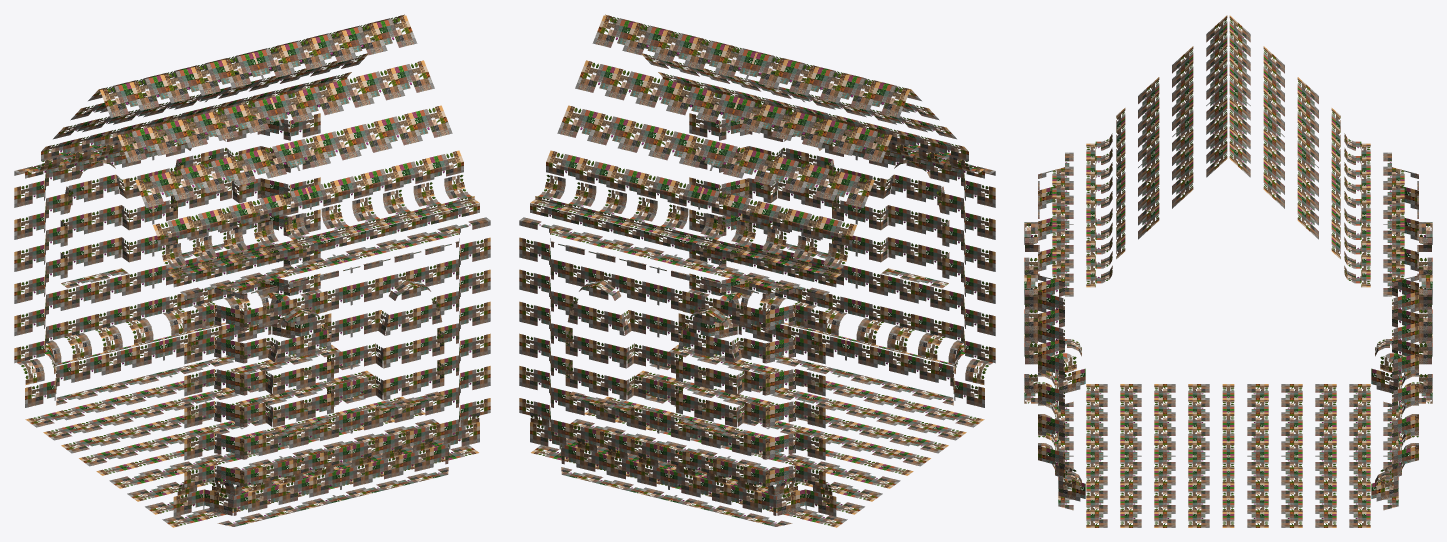
Rendered from GrandCorridor.fbx.
The picture shows the model from 3 angles, left to right: view 1: azimuth 30°, elevation 25°; view 2: azimuth 150°, elevation 25°; view 3: azimuth 270°, elevation 25°; orthographic projection. The views are drawn at different scales.
Parts seen in each view (by area): view 1: FloorsAndWalls; view 2: FloorsAndWalls; view 3: FloorsAndWalls.
Part boxes in pixels (bbox=[...]): FloorsAndWalls: bbox=[14, 14, 490, 527]; FloorsAndWalls: bbox=[519, 14, 995, 527]; FloorsAndWalls: bbox=[1024, 15, 1432, 527].
Size of what is drawn, in the model's own units: 10 by 12 by 12.
